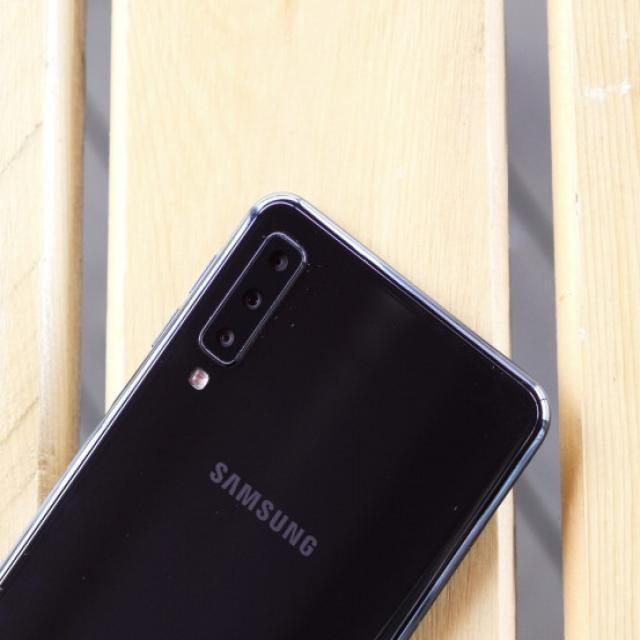phone: (4, 195, 552, 634)
